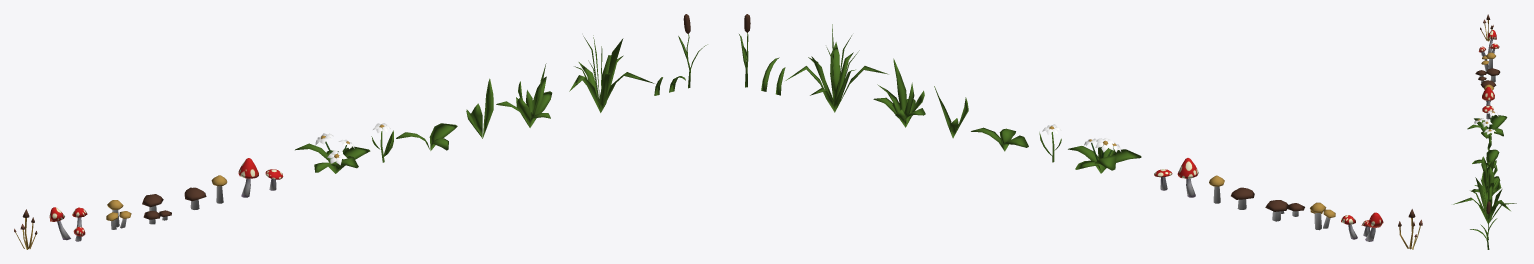
File: Grass_Smooth.fbx
The picture shows the model from 3 angles, left to right: view 1: azimuth 30°, elevation 25°; view 2: azimuth 150°, elevation 25°; view 3: azimuth 270°, elevation 25°; orthographic projection. The views are drawn at different scales.
Parts seen in each view (by area): view 1: Grass_Smooth 4, Flower_Smooth 1, Grass_Smooth 3, Grass_Smooth 2, Grass_Smooth 1, Mushroom_Smooth 4, Mushroom_Smooth 2, Mushroom_Smooth 3, Mushroom_Smooth 8; view 2: Grass_Smooth 4, Flower_Smooth 1, Grass_Smooth 3, Mushroom_Smooth 4, Grass_Smooth 1, Mushroom_Smooth 2, Mushroom_Smooth 8, Mushroom_Smooth 3, Grass_Smooth 2; view 3: Grass_Smooth 4, Flower_Smooth 1, Grass_Smooth 3, Mushroom_Smooth 4, Mushroom_Smooth 2, Grass_Smooth 1, Mushroom_Smooth 3, Mushroom_Smooth 8, Grass_Smooth 2, Leaf_Smooth 3, Mushroom_Smooth 1, Flower_Smooth 2 (+2 smaller).
Boxes of the visible parts, <box> form: Grass_Smooth 4: <box>569,35,654,112</box>; Flower_Smooth 1: <box>295,133,370,173</box>; Grass_Smooth 3: <box>496,63,552,127</box>; Grass_Smooth 2: <box>466,78,493,138</box>; Grass_Smooth 1: <box>396,123,457,150</box>; Mushroom_Smooth 4: <box>49,207,87,241</box>; Mushroom_Smooth 2: <box>142,194,171,224</box>; Mushroom_Smooth 3: <box>106,200,131,229</box>; Mushroom_Smooth 8: <box>238,158,258,197</box>; Grass_Smooth 4: <box>785,24,888,112</box>; Flower_Smooth 1: <box>1068,138,1141,173</box>; Grass_Smooth 3: <box>873,58,925,127</box>; Mushroom_Smooth 4: <box>1341,212,1383,241</box>; Grass_Smooth 1: <box>971,127,1028,151</box>; Mushroom_Smooth 2: <box>1265,200,1304,221</box>; Mushroom_Smooth 8: <box>1177,158,1198,197</box>; Mushroom_Smooth 3: <box>1310,202,1335,230</box>; Grass_Smooth 2: <box>934,86,968,138</box>; Grass_Smooth 4: <box>1453,169,1516,223</box>; Flower_Smooth 1: <box>1467,110,1507,138</box>; Grass_Smooth 3: <box>1471,164,1501,198</box>; Mushroom_Smooth 4: <box>1478,30,1499,56</box>; Mushroom_Smooth 2: <box>1475,68,1500,82</box>; Grass_Smooth 1: <box>1472,149,1499,168</box>; Mushroom_Smooth 3: <box>1481,52,1495,71</box>; Mushroom_Smooth 8: <box>1482,87,1494,105</box>; Grass_Smooth 2: <box>1481,155,1497,181</box>; Leaf_Smooth 3: <box>1481,201,1497,249</box>; Mushroom_Smooth 1: <box>1480,14,1493,41</box>; Flower_Smooth 2: <box>1484,128,1495,150</box>.
Size of the model in its own units: 1608 by 189 by 214.
